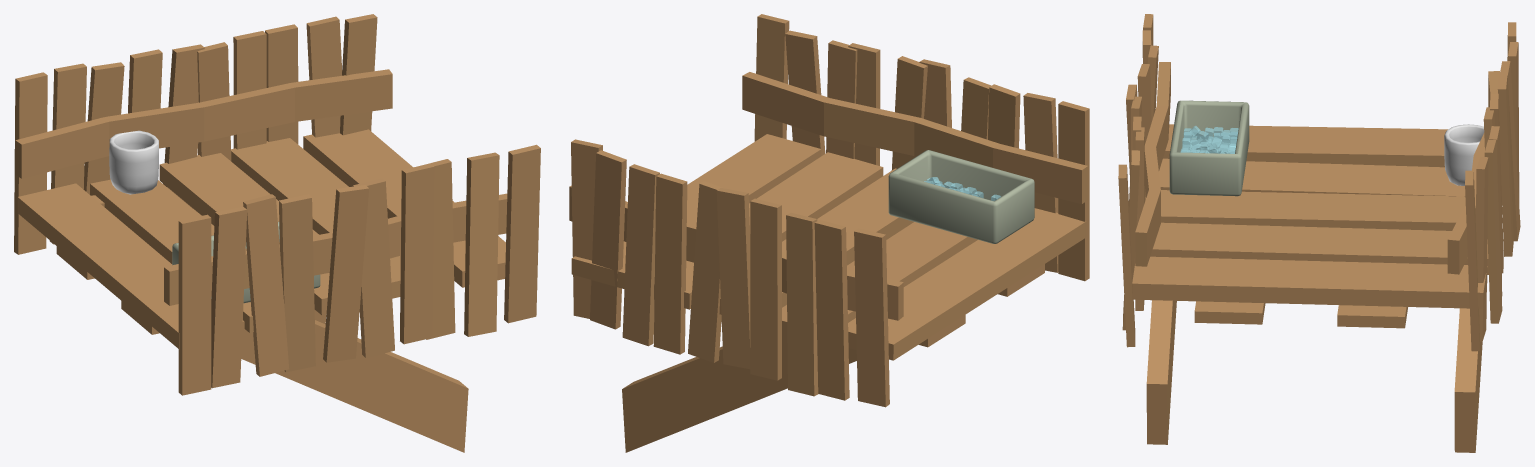
The model's file is fishing.glb.
3 renders of one model, left to right at view 1: azimuth 30°, elevation 25°; view 2: azimuth 150°, elevation 25°; view 3: azimuth 270°, elevation 25°, orthographic.
Parts seen in each view (by area): view 1: bridge, baitbox; view 2: bridge, icebox; view 3: bridge, icebox, baitbox, ices.
Part boxes in pixels (x1,y1,x2,y2): bridge: (14, 14, 540, 452); baitbox: (109, 130, 158, 194); bridge: (569, 14, 1089, 452); icebox: (888, 150, 1034, 243); bridge: (1118, 14, 1520, 452); icebox: (1169, 100, 1249, 196); baitbox: (1444, 124, 1484, 185); ices: (1180, 125, 1238, 153).
Size of the model in its own units: 6.34 by 4.91 by 6.03.
